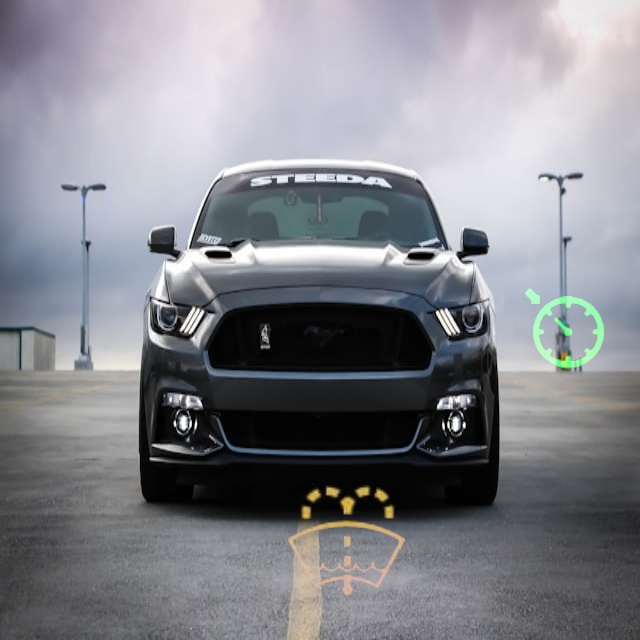symbol: (251, 447, 444, 640), (42, 111, 184, 253), (495, 260, 633, 398)
